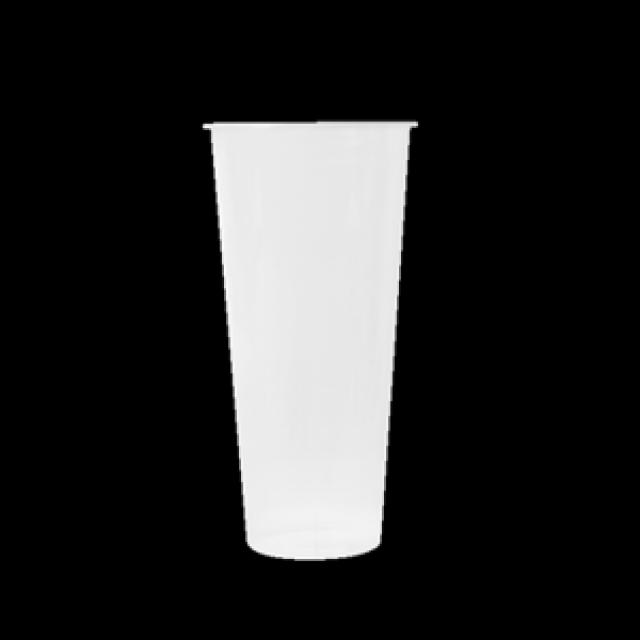plastic cup: (194, 108, 425, 570)
